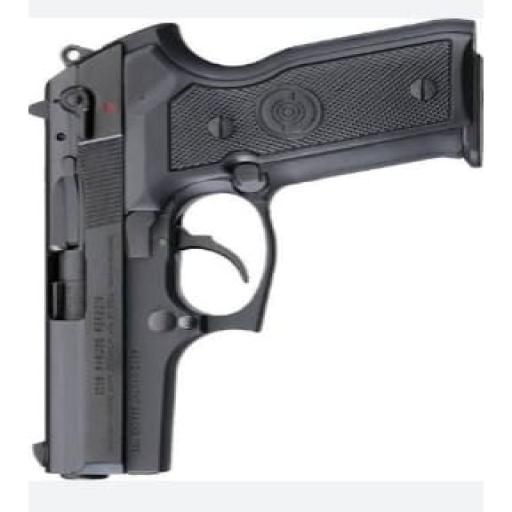Gun: (30, 21, 480, 476)
